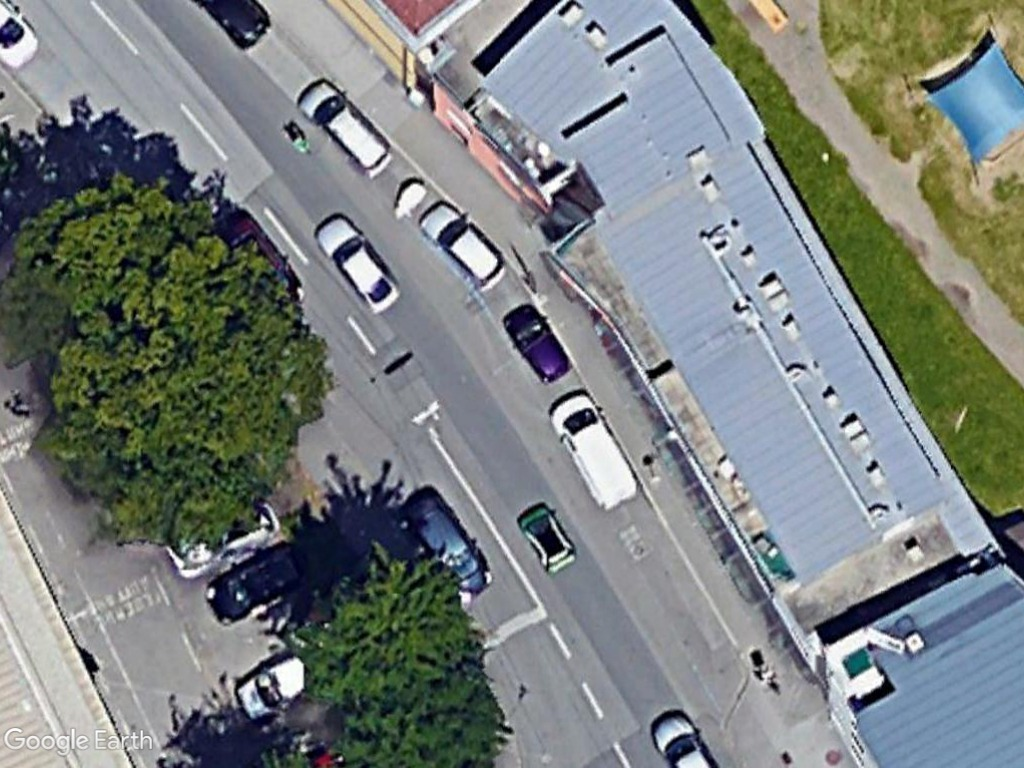car: (290, 71, 394, 179), (413, 197, 511, 297), (311, 210, 403, 315), (498, 299, 575, 386)
van: (546, 389, 641, 519)
